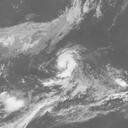cyclone: (56, 51, 77, 73)
